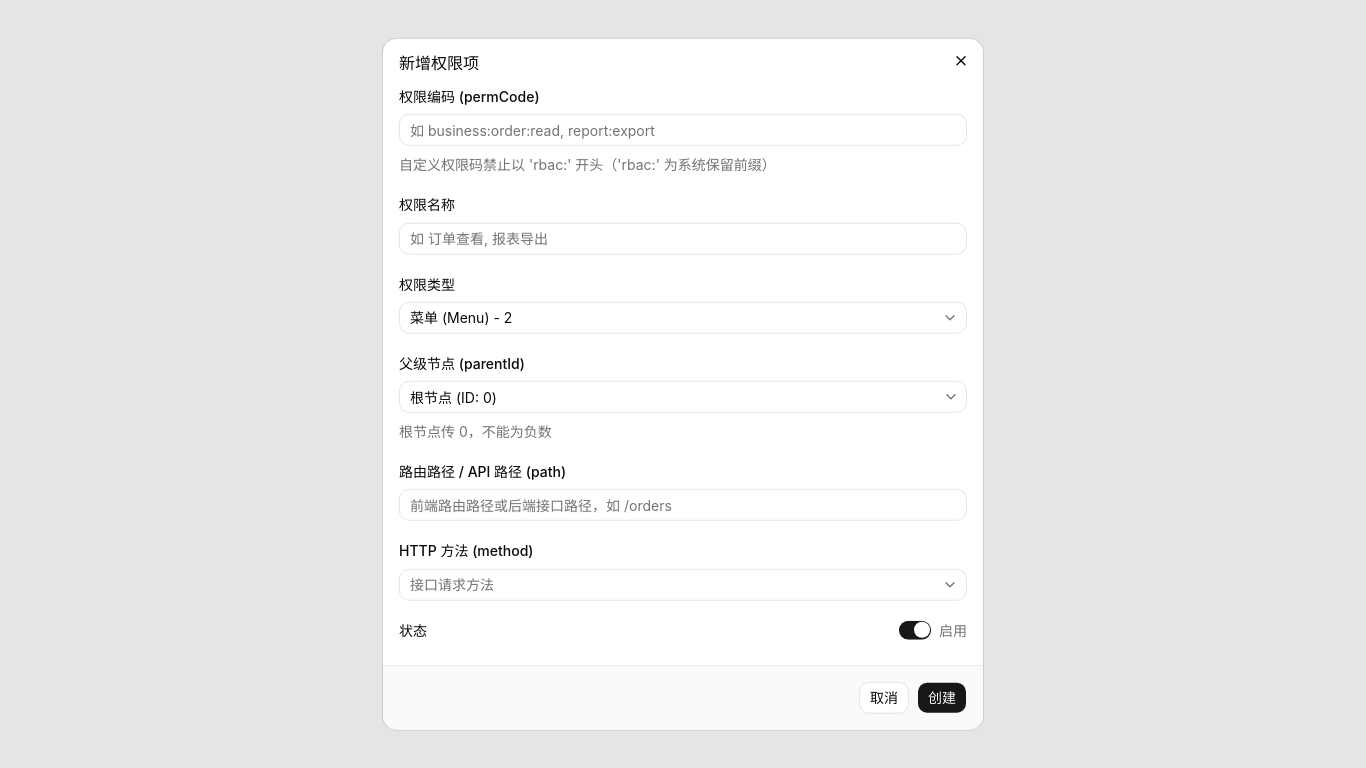
Scenario: PermissionFormModal (RBAC 权限项 新增/编辑弹窗) › 提交失败路径 - 后端返回 INVALID_ARGUMENT 时在 Alert 中展示错误信息
The width and height of the screenshot is (1366, 768).
Type "dup:perm" into the field labelled "权限编码 (permCode)" at (683, 130), box [399,114,967,146]
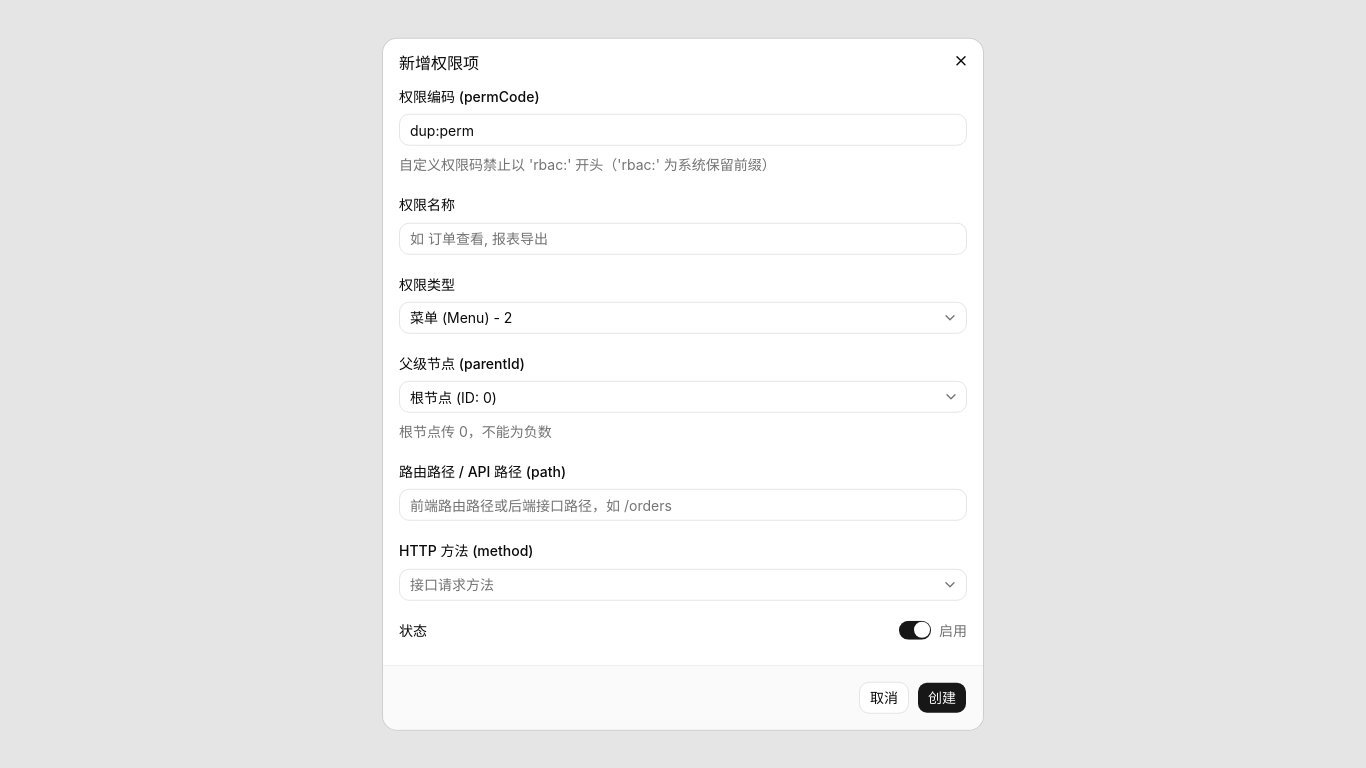
Type "重复权限" into the field labelled "权限名称" at (683, 238), box [399,222,967,254]
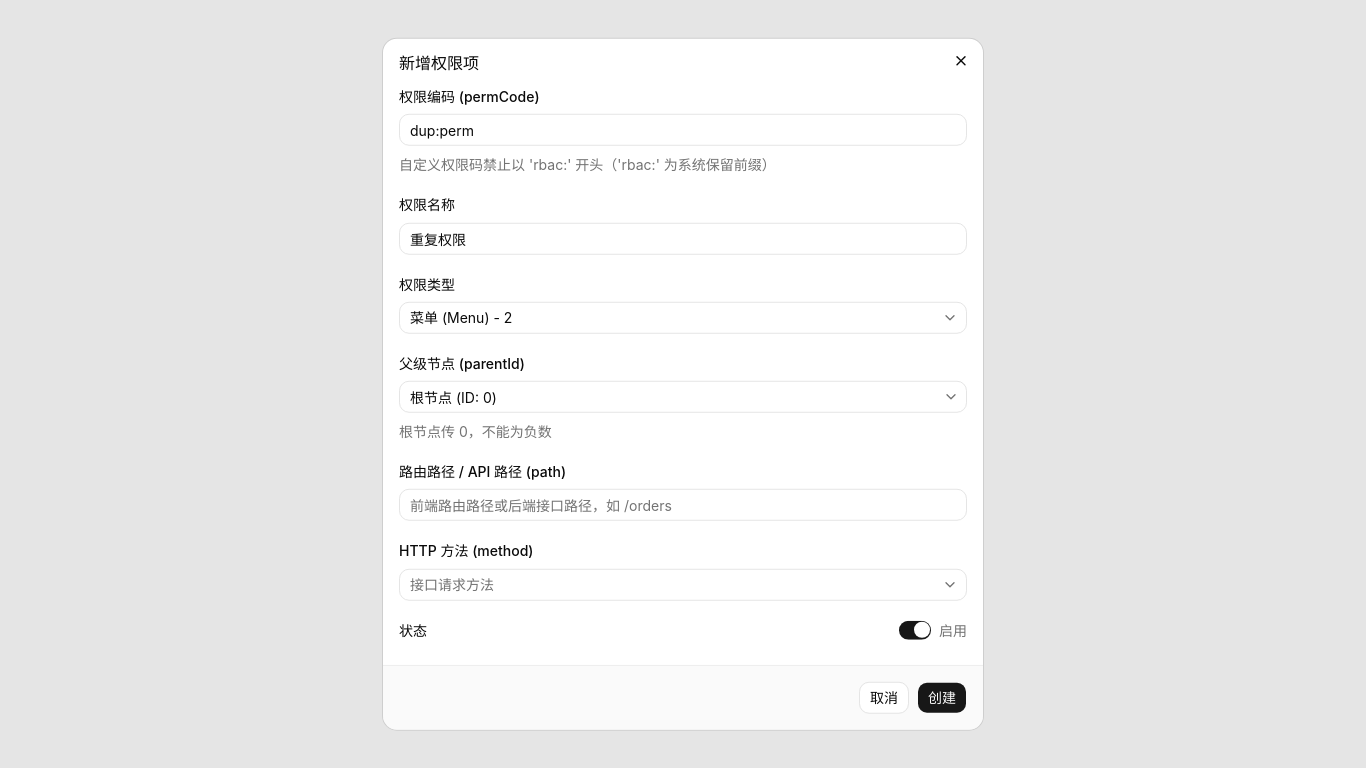
Click the button "创建" at (942, 697), box [917,681,967,713]
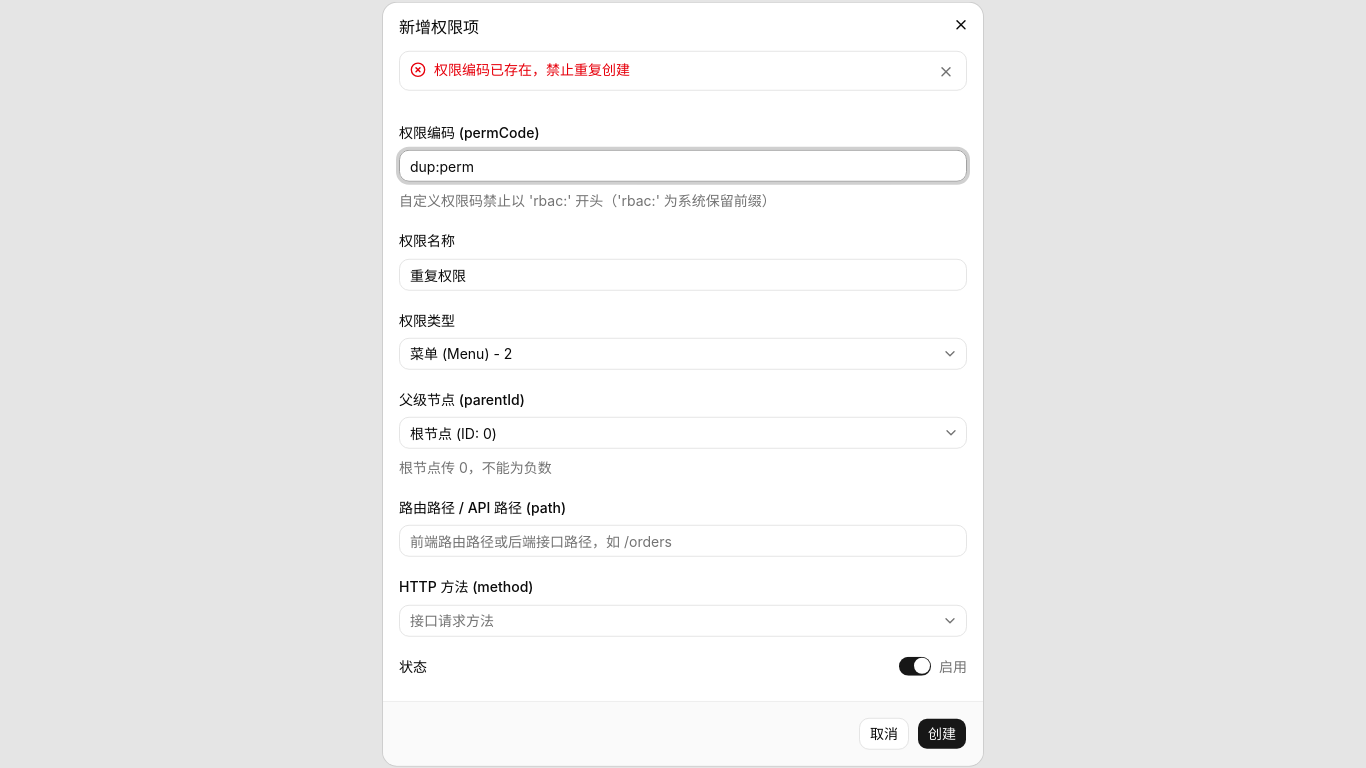
Expected: the button "创建" is enabled, [917,717,967,749]
Now the text "权限编码已存在，禁止重复创建" is shown, box [434,61,630,78]
